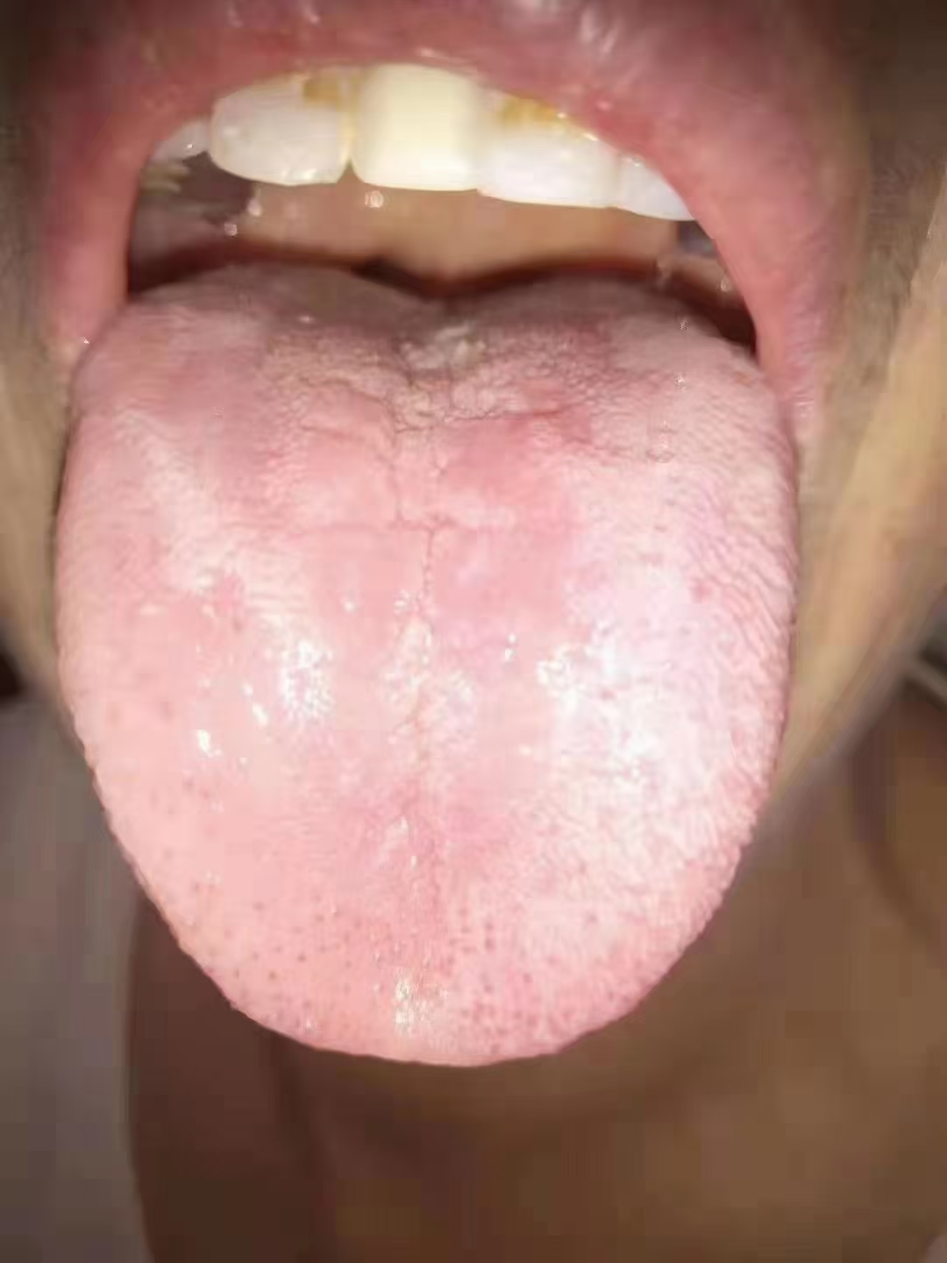baitaishe: (56, 262, 800, 1067)
liewenshe: (288, 331, 571, 482)
